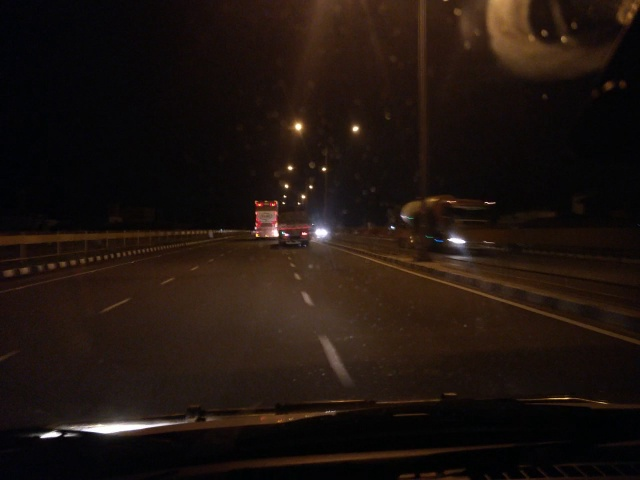bus: (252, 197, 283, 244)
truck: (394, 186, 512, 256), (279, 207, 316, 248)
